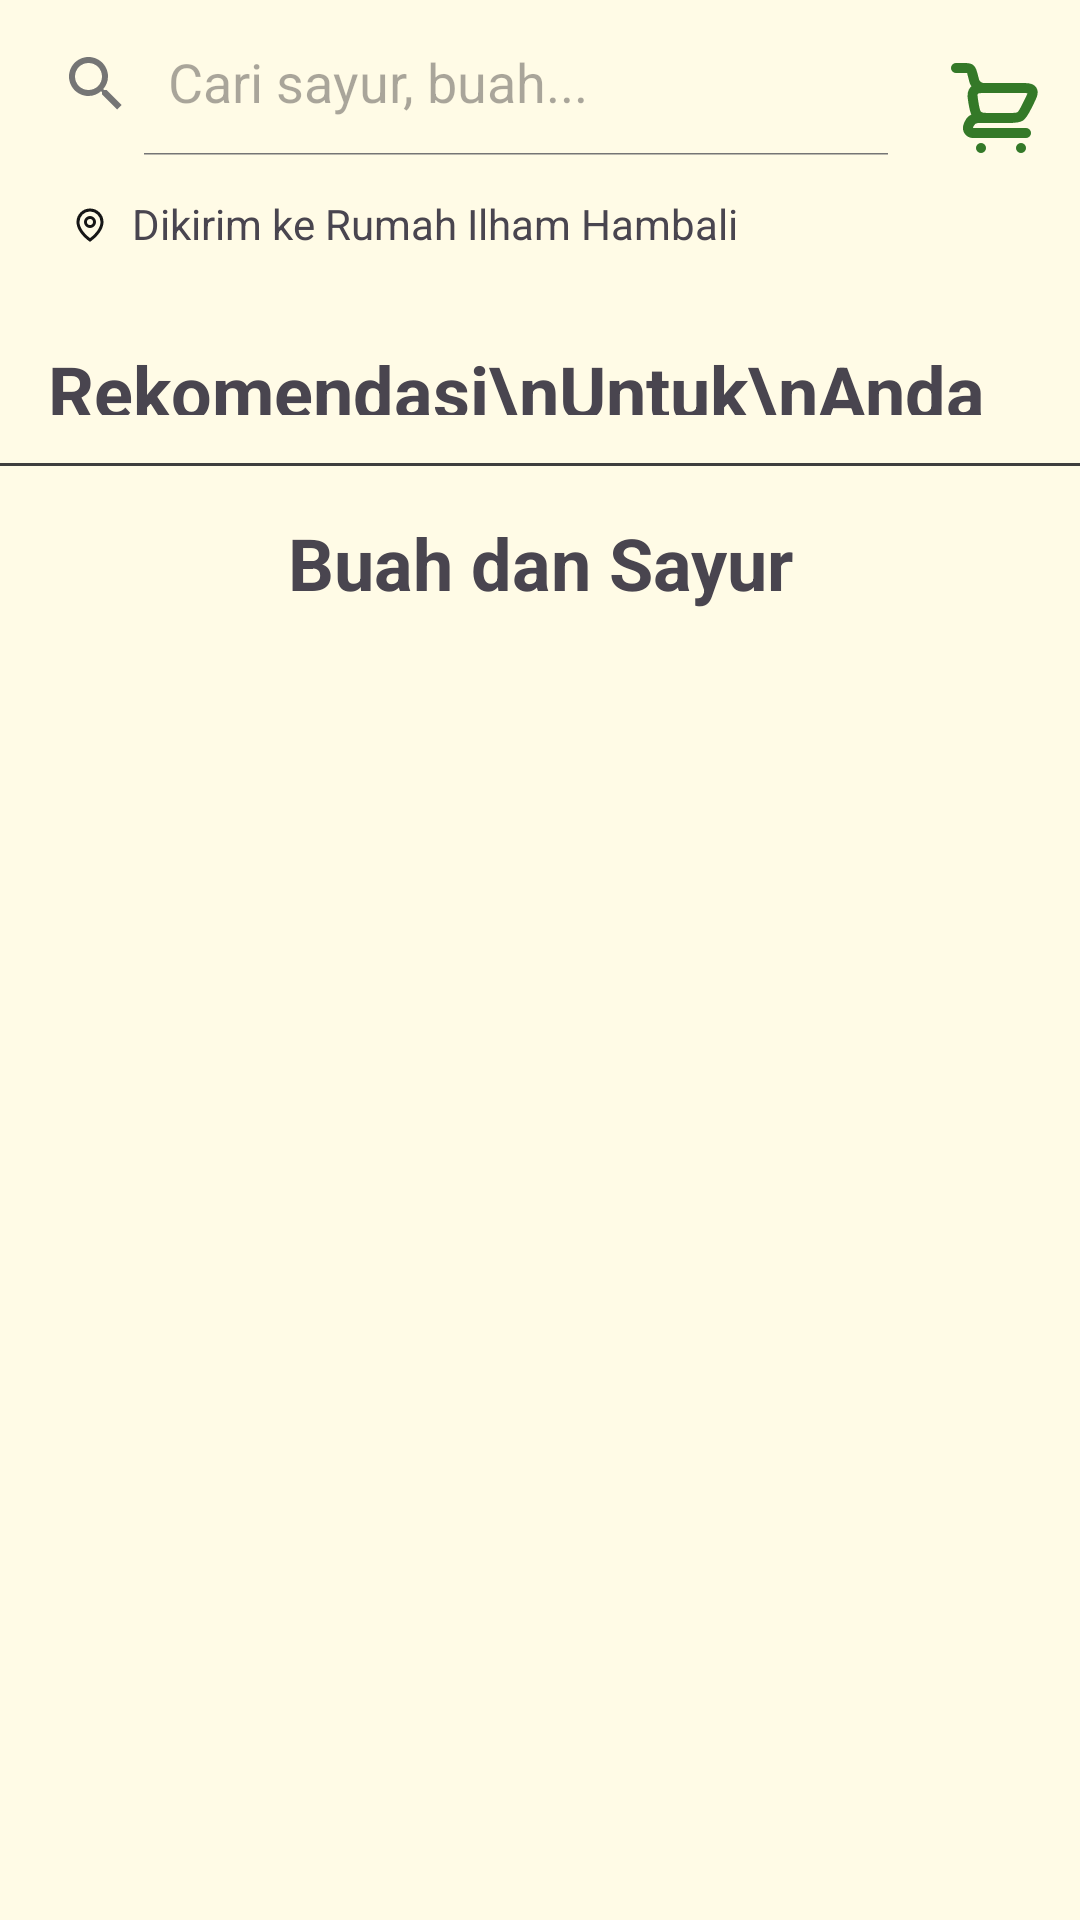

Icons on this 1080×1920 Android screen, each with its box as (x1, y1, x2, y2):
cart: (951, 63, 1038, 153)
location: (76, 208, 104, 242)
